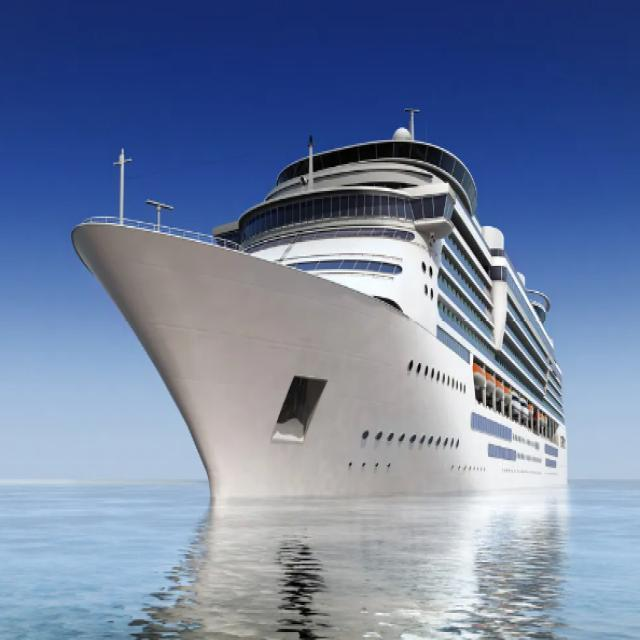passenger ship: (75, 116, 568, 528)
